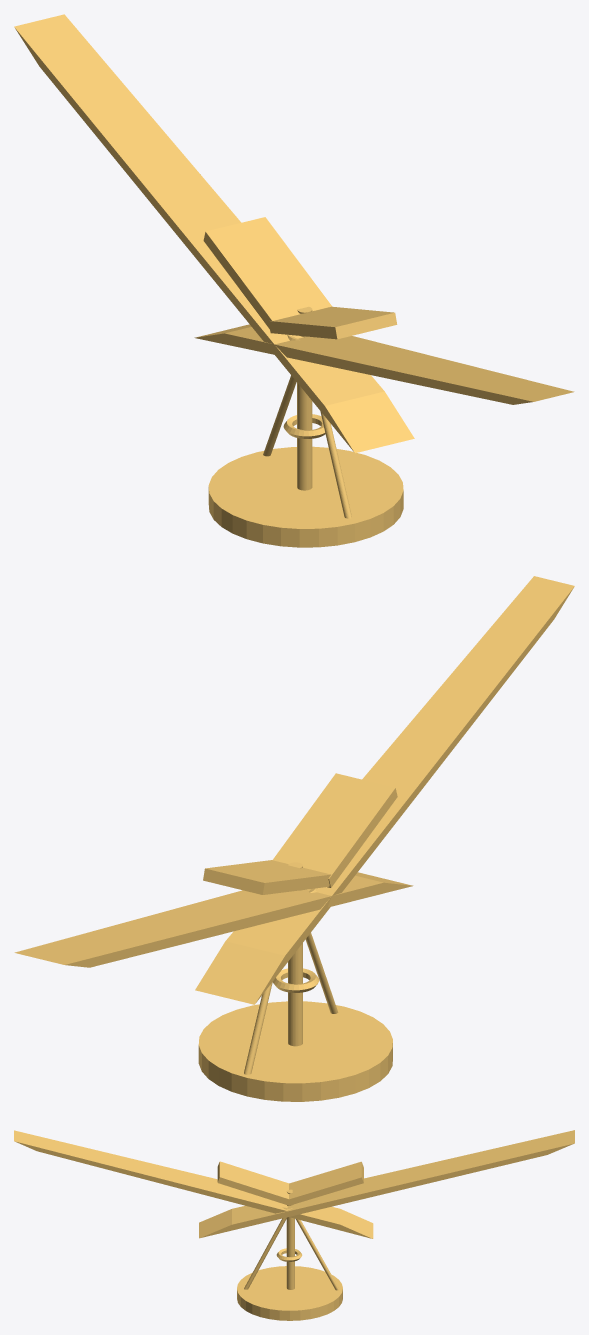
Rendered from machine.fbx.
3 views of the same model, one above another, from view 1: azimuth 30°, elevation 25°; view 2: azimuth 150°, elevation 25°; view 3: azimuth 270°, elevation 25° (orthographic). The views are drawn at different scales.
Parts seen in each view (by area): view 1: Cube.011, Cylinder, Cube.013, Cube.010, Cube.012, Cylinder.001, Cylinder.002, Cylinder.003; view 2: Cube.013, Cylinder, Cube.011, Cube.012, Cube.010, Cylinder.001, Cylinder.003, Cylinder.002; view 3: Cube.011, Cube.013, Cylinder, Cube.010, Cube.012, Cylinder.001, Cylinder.002, Cylinder.003.
Part boxes in pixels (box(x1,y1,x2,y2)): Cube.011: box(14, 14, 414, 453); Cylinder: box(208, 446, 403, 547); Cube.013: box(194, 324, 574, 404); Cube.010: box(203, 217, 331, 329); Cube.012: box(268, 306, 397, 339); Cylinder.001: box(297, 306, 312, 490); Cylinder.002: box(320, 411, 351, 518); Cylinder.003: box(263, 375, 296, 456); Cube.013: box(195, 576, 574, 1004); Cylinder: box(198, 1001, 392, 1101); Cube.011: box(14, 872, 413, 967); Cube.012: box(272, 773, 397, 887); Cube.010: box(203, 860, 330, 894); Cylinder.001: box(288, 862, 302, 1046); Cylinder.003: box(244, 982, 272, 1074); Cylinder.002: box(305, 933, 338, 1013); Cube.011: box(199, 1130, 574, 1238); Cube.013: box(14, 1130, 373, 1238); Cylinder: box(237, 1266, 342, 1320); Cube.010: box(289, 1161, 363, 1204); Cube.012: box(217, 1161, 290, 1205); Cylinder.001: box(286, 1189, 294, 1289); Cylinder.002: box(244, 1217, 287, 1289); Cylinder.003: box(295, 1219, 339, 1290).
Size of the model in its own units: 202 by 339 by 1068.
